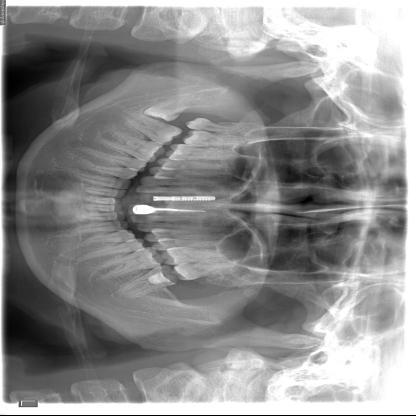ITI: (151, 197, 217, 202)
